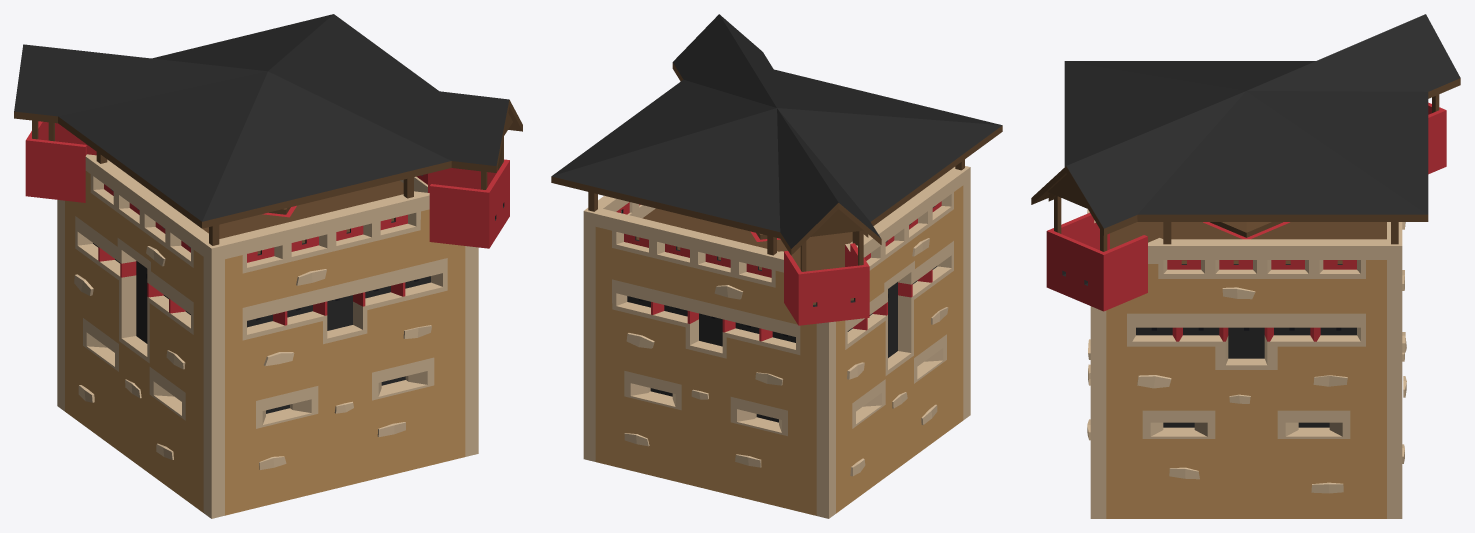
Rendered from zulu-blockhouse-general-major.glb.
The picture shows the model from 3 angles, left to right: view 1: azimuth 30°, elevation 25°; view 2: azimuth 150°, elevation 25°; view 3: azimuth 270°, elevation 25°; orthographic projection. The views are drawn at different scales.
Visible parts, largest first — view 1: blockhouse-general-major; view 2: blockhouse-general-major; view 3: blockhouse-general-major.
Part boxes in pixels (<box>): blockhouse-general-major: <box>14,14,522,518</box>; blockhouse-general-major: <box>551,14,1002,518</box>; blockhouse-general-major: <box>1031,14,1460,518</box>.
Bounding box in the file's own units: 8.27 × 7.69 × 8.27.
